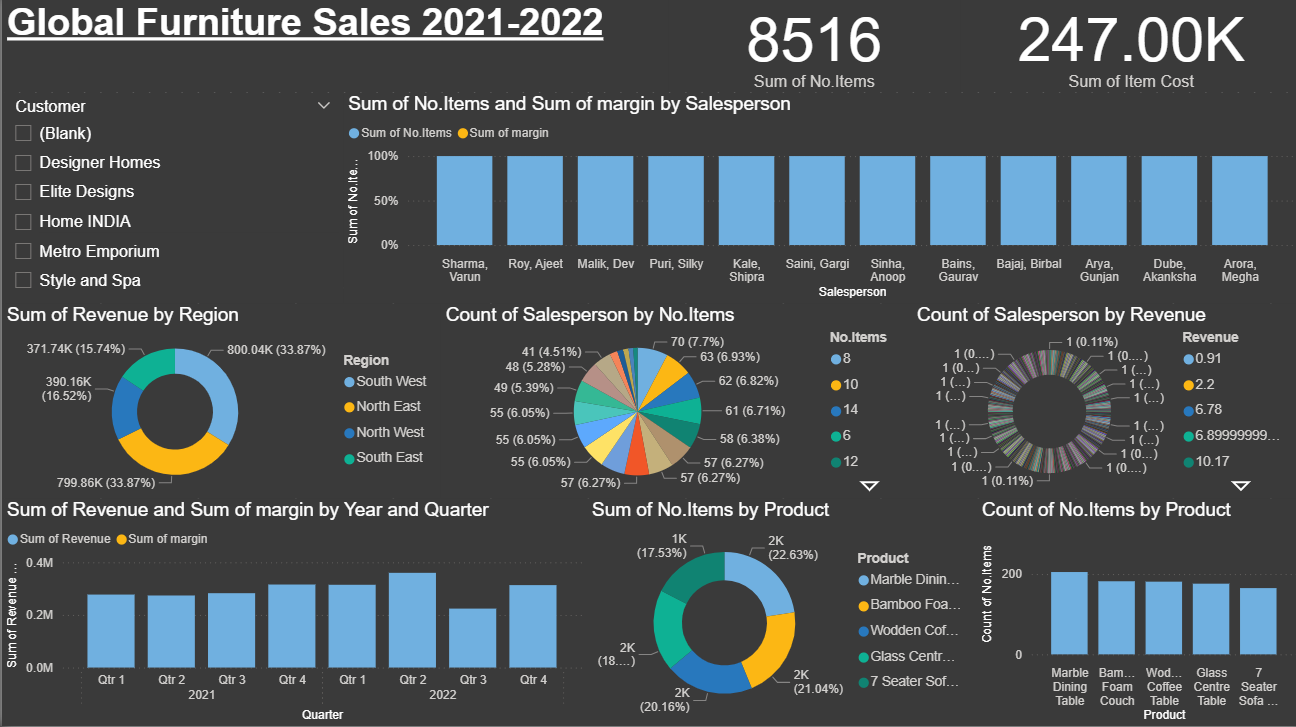

What the dashboard file says about the page in this screenshot:
{"tool":"powerbi","page":{"name":"Page 1","canvas":[1280,720],"ordinal":0},"visuals":[{"type":"textbox","box":[0,0,656,96],"z":0},{"type":"columnChart","fields":{"Y":["Raw_Data.Revenue","Raw_Data.margin"],"Category":["Raw_Data.Date.Variation.Date Hierarchy.Year","Raw_Data.Date.Variation.Date Hierarchy.Quarter"]},"box":[0,496,576,224],"z":1000},{"type":"donutChart","fields":{"Category":["Raw_Data.Product"],"Y":["Raw_Data.No.Items"]},"box":[576,496,384,224],"z":2000},{"type":"columnChart","fields":{"Category":["Raw_Data.Product"],"Y":["Raw_Data.No.Items"]},"box":[960,496,320,224],"z":3000},{"type":"donutChart","fields":{"Category":["Raw_Data.Revenue"],"Y":["Raw_Data.Salesperson"]},"box":[896,304,384,192],"z":4000},{"type":"pieChart","fields":{"Category":["Raw_Data.No.Items"],"Y":["Raw_Data.Salesperson"]},"box":[432,304,464,192],"z":5000},{"type":"donutChart","fields":{"Y":["Raw_Data.Revenue"],"Category":["Raw_Data.Region"]},"box":[0,304,432,192],"z":6000},{"type":"hundredPercentStackedColumnChart","fields":{"Category":["Raw_Data.Salesperson"],"Y":["Raw_Data.No.Items","Raw_Data.margin"]},"box":[336,96,944,208],"z":8000},{"type":"slicer","fields":{"Values":["Raw_Data.Customer"]},"box":[0,96,336,208],"z":9000},{"type":"card","fields":{"Values":["Raw_Data.No.Items"]},"box":[656,0,288,96],"z":12000},{"type":"card","fields":{"Values":["Raw_Data.Item Cost"]},"box":[944,0,336,96],"z":13000}]}

Visuals, with their boxes in screenshot pixels (x1, y1, x2, y2), scaled from the page's 1280x720 canvas onto the 1296x727 screenshot:
textbox: detection(0, 0, 664, 97)
columnChart - Raw_Data.Revenue x Raw_Data.margin: detection(0, 501, 583, 726)
donutChart - Raw_Data.Product x Raw_Data.No.Items: detection(583, 501, 972, 726)
columnChart - Raw_Data.Product x Raw_Data.No.Items: detection(972, 501, 1295, 726)
donutChart - Raw_Data.Revenue x Raw_Data.Salesperson: detection(907, 307, 1295, 501)
pieChart - Raw_Data.No.Items x Raw_Data.Salesperson: detection(437, 307, 907, 501)
donutChart - Raw_Data.Revenue x Raw_Data.Region: detection(0, 307, 437, 501)
hundredPercentStackedColumnChart - Raw_Data.Salesperson x Raw_Data.No.Items: detection(340, 97, 1295, 307)
slicer - Raw_Data.Customer: detection(0, 97, 340, 307)
card - Raw_Data.No.Items: detection(664, 0, 956, 97)
card - Raw_Data.Item Cost: detection(956, 0, 1295, 97)
